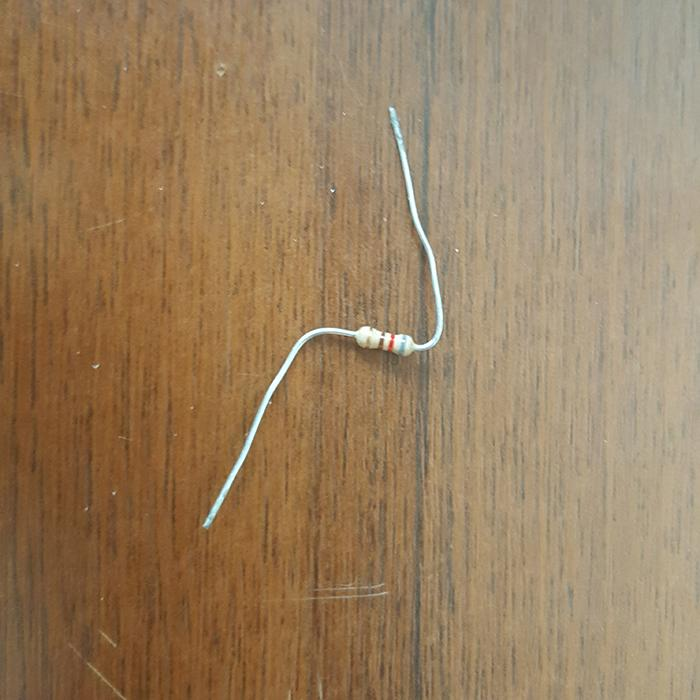resistor: (354, 324, 414, 356)
